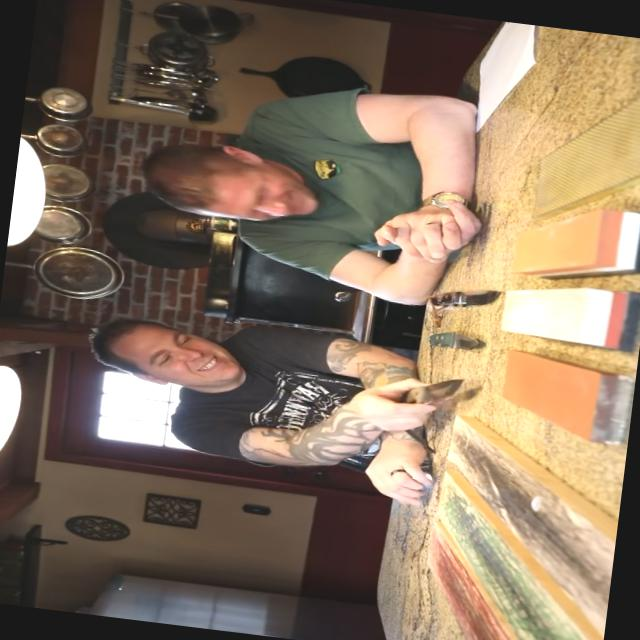knife: (368, 358, 475, 432)
